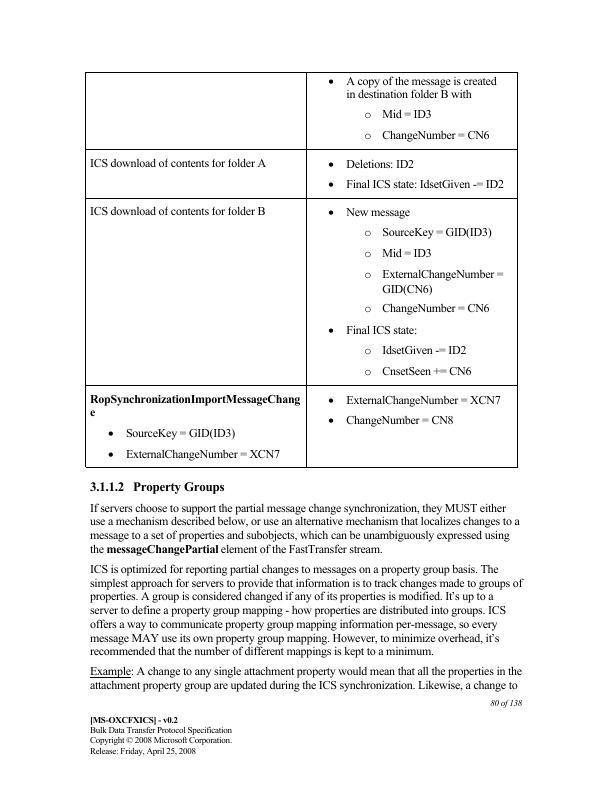table: (82, 70, 520, 468)
text: (86, 562, 524, 657), (87, 500, 523, 556), (85, 664, 527, 694), (86, 714, 235, 757), (88, 480, 226, 495), (482, 697, 525, 711)
